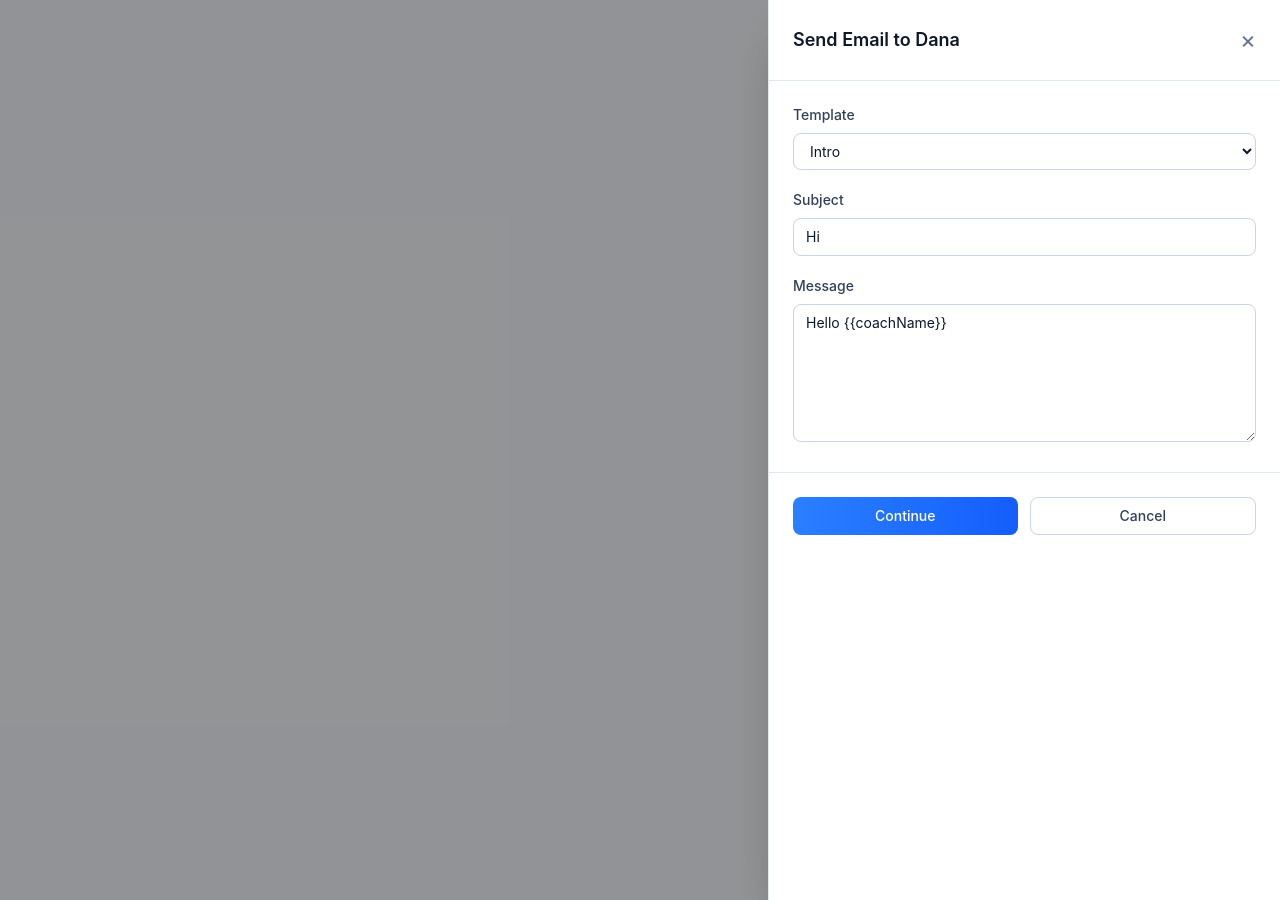
it: MessageComposer › skips the info stage straight to preview when nothing is missing
What coordinates should you click on to do the following:
click the button "Continue"
I would click on:
 (905, 516)
Its box is x1=793 y1=497 x2=1018 y2=535.
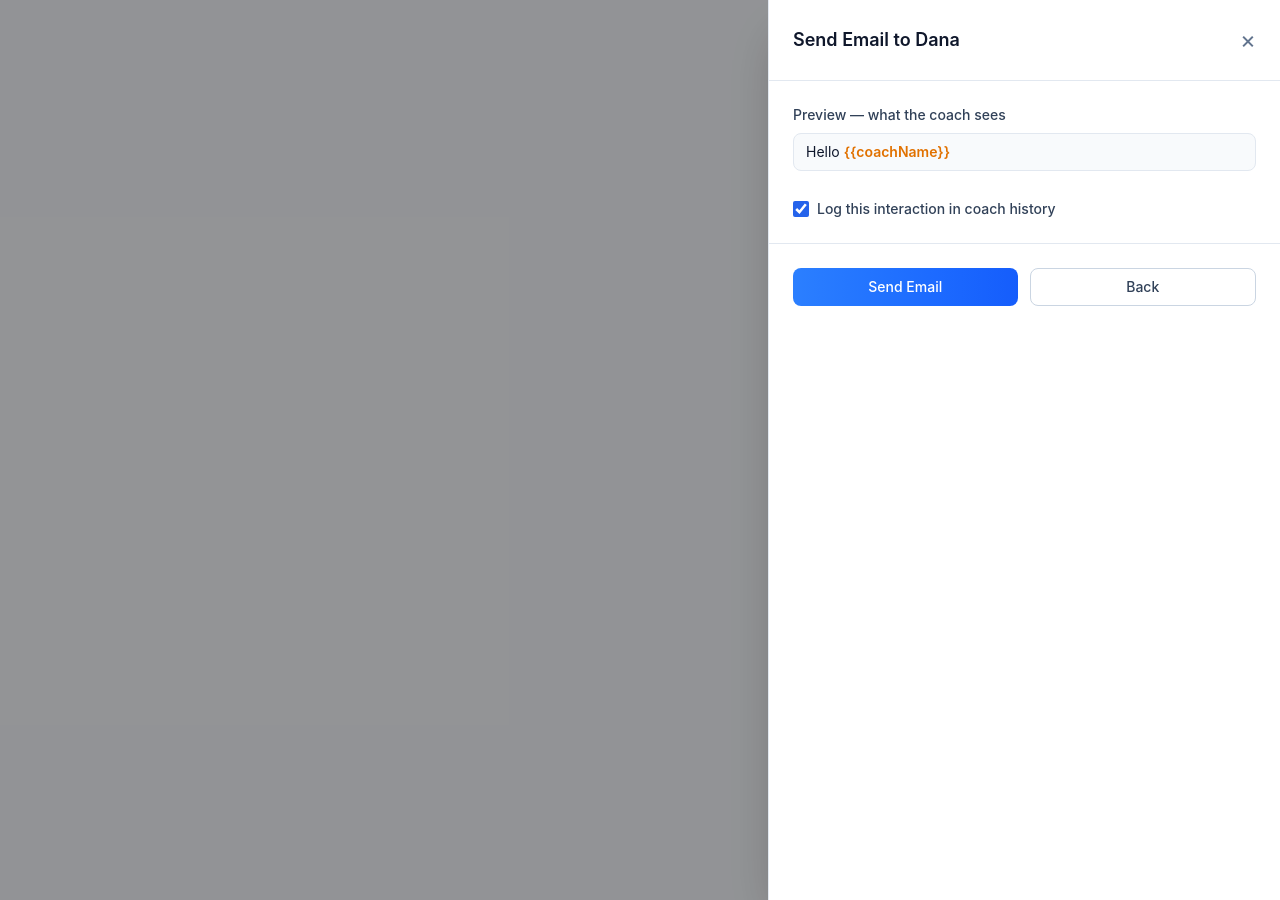
Check: the button "Send Email" is shown, box x1=793 y1=268 x2=1018 y2=306
Check: the text "{{coachName}}" is shown, box x1=844 y1=143 x2=950 y2=160
